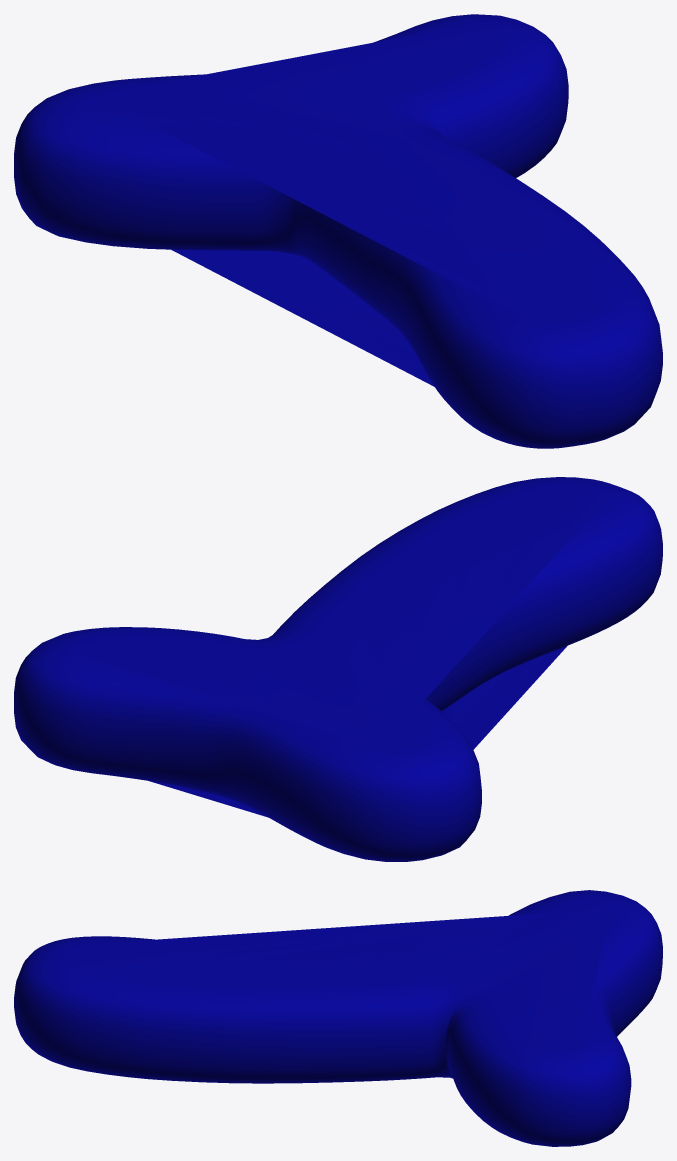
The picture shows the model from 3 angles, top to bottom: view 1: azimuth 30°, elevation 25°; view 2: azimuth 150°, elevation 25°; view 3: azimuth 270°, elevation 25°; orthographic projection. The views are drawn at different scales.
Visible parts, largest first — view 1: Curve.021; view 2: Curve.021; view 3: Curve.021.
Part boxes in pixels (left/top/right/bottom): Curve.021: left=14, top=14, right=662, bottom=448; Curve.021: left=14, top=477, right=662, bottom=861; Curve.021: left=14, top=890, right=662, bottom=1146.
Bounding box in the file's own units: 232 × 49.54 × 325.
1 material, 1 textured.
